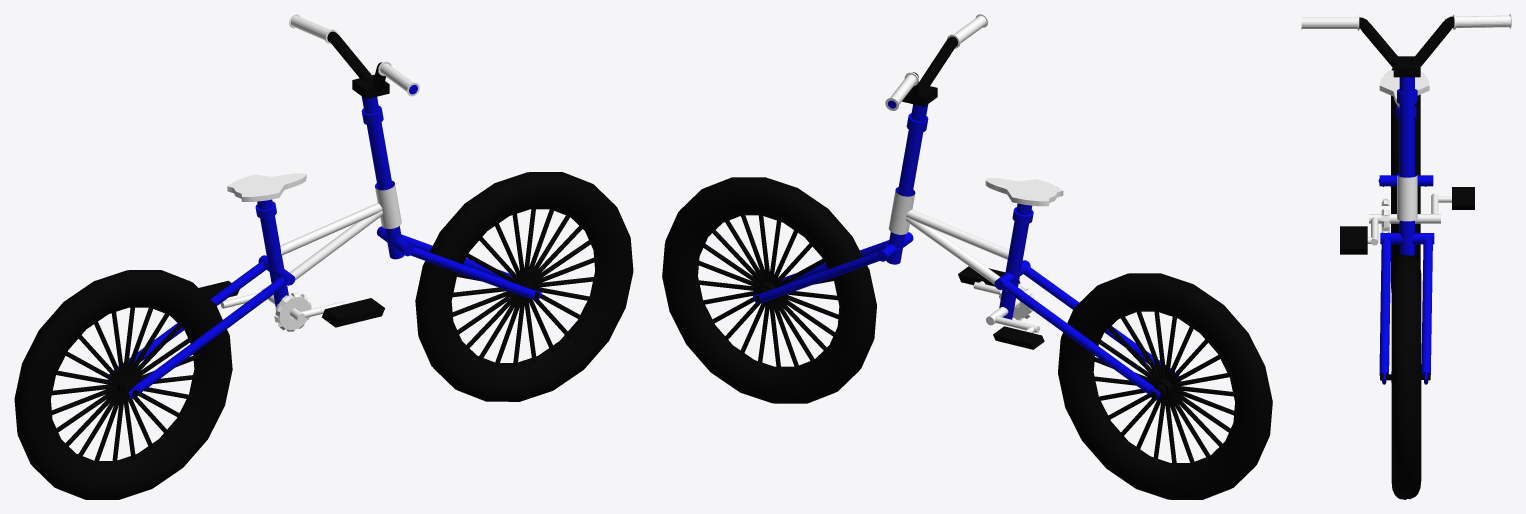
The model's file is Bicicle.fbx.
The picture shows the model from 3 angles, left to right: view 1: azimuth 30°, elevation 25°; view 2: azimuth 150°, elevation 25°; view 3: azimuth 270°, elevation 25°; orthographic projection.
Parts seen in each view (by area): view 1: pCylinder34; view 2: pCylinder34; view 3: pCylinder34.
Boxes of the visible parts, x1,y1,x2,y2 form: pCylinder34: [14, 14, 633, 499]; pCylinder34: [662, 14, 1272, 499]; pCylinder34: [1301, 14, 1511, 499].
Size of the model in its own units: 8.68 by 5.32 by 2.58.
